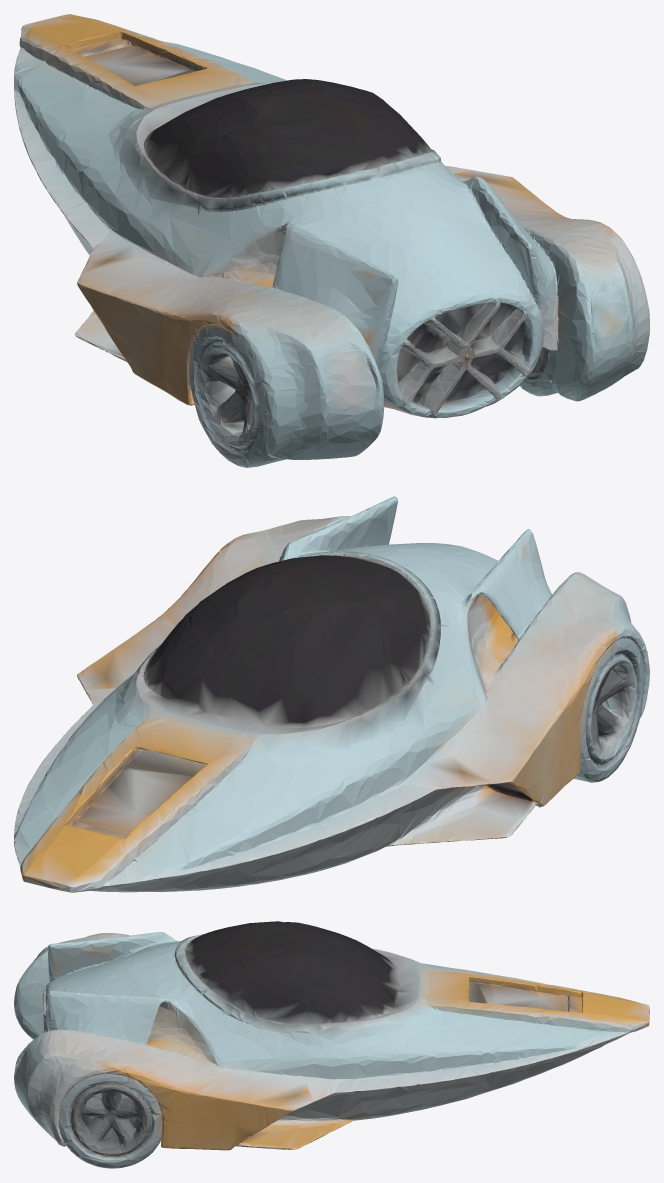
Rendered from aero_hi.glb.
3 renders of one model, top to bottom at view 1: azimuth 30°, elevation 25°; view 2: azimuth 150°, elevation 25°; view 3: azimuth 270°, elevation 25°, orthographic. The views are drawn at different scales.
Visible parts, largest first — view 1: geometry_0; view 2: geometry_0; view 3: geometry_0.
Boxes of the visible parts, bbox=[...] form: geometry_0: bbox=[14, 14, 649, 467]; geometry_0: bbox=[14, 496, 649, 892]; geometry_0: bbox=[14, 921, 649, 1168].
Size of the model in its own units: 5.12 by 2.57 by 9.
